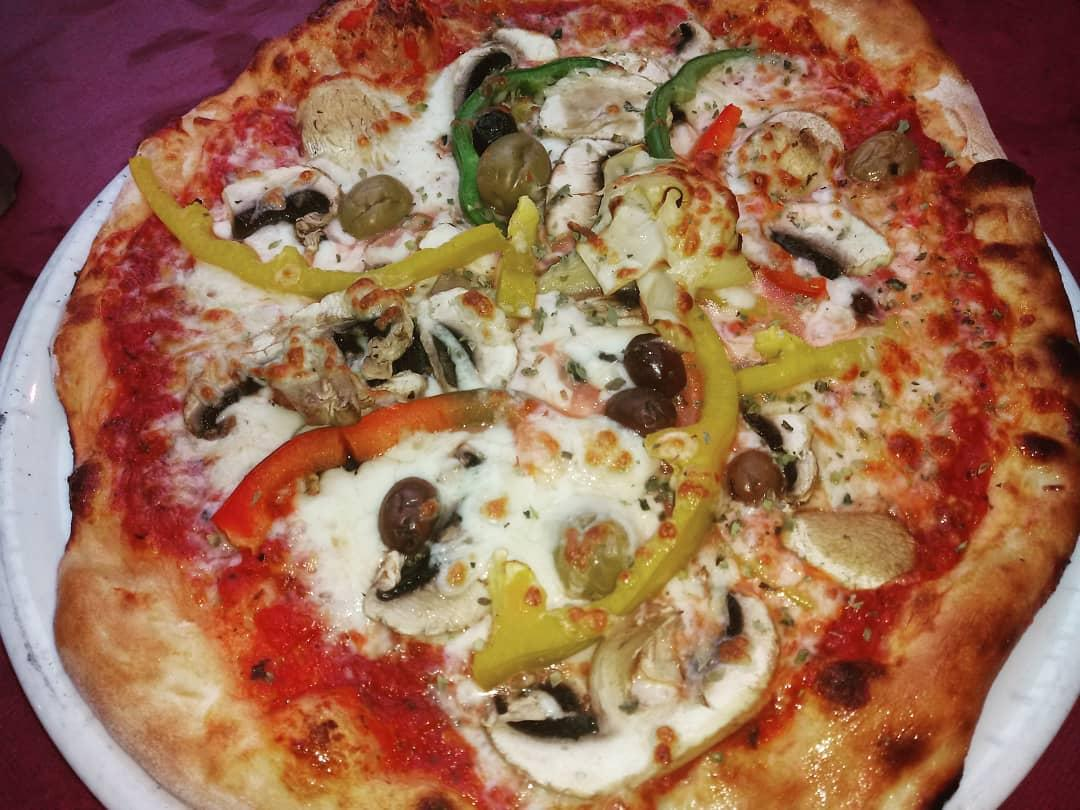Mushroom: (176, 292, 404, 428), (368, 520, 495, 640), (413, 285, 517, 401), (483, 663, 622, 748), (540, 136, 640, 242), (216, 163, 347, 237), (765, 196, 887, 275), (735, 386, 818, 497), (452, 39, 511, 131)
Olives: (470, 138, 549, 203), (335, 178, 411, 235), (375, 478, 438, 546), (623, 330, 692, 389), (600, 389, 674, 430), (723, 452, 779, 498), (466, 48, 510, 93), (470, 112, 520, 151), (286, 183, 327, 214)
Peppers: (195, 389, 563, 538), (123, 160, 490, 289), (612, 298, 726, 619), (452, 63, 617, 222), (648, 45, 770, 154), (718, 329, 874, 405), (490, 189, 553, 319), (739, 248, 821, 304), (692, 106, 746, 168)
Pizza: (52, 0, 1080, 810)
